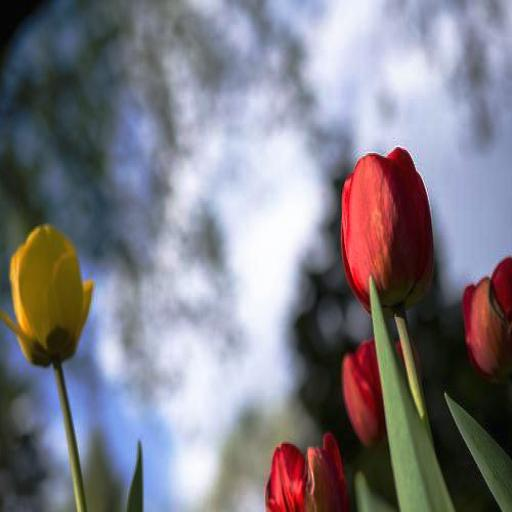tulip: (340, 147, 433, 308), (2, 222, 93, 364), (266, 433, 347, 512), (462, 258, 512, 379)
